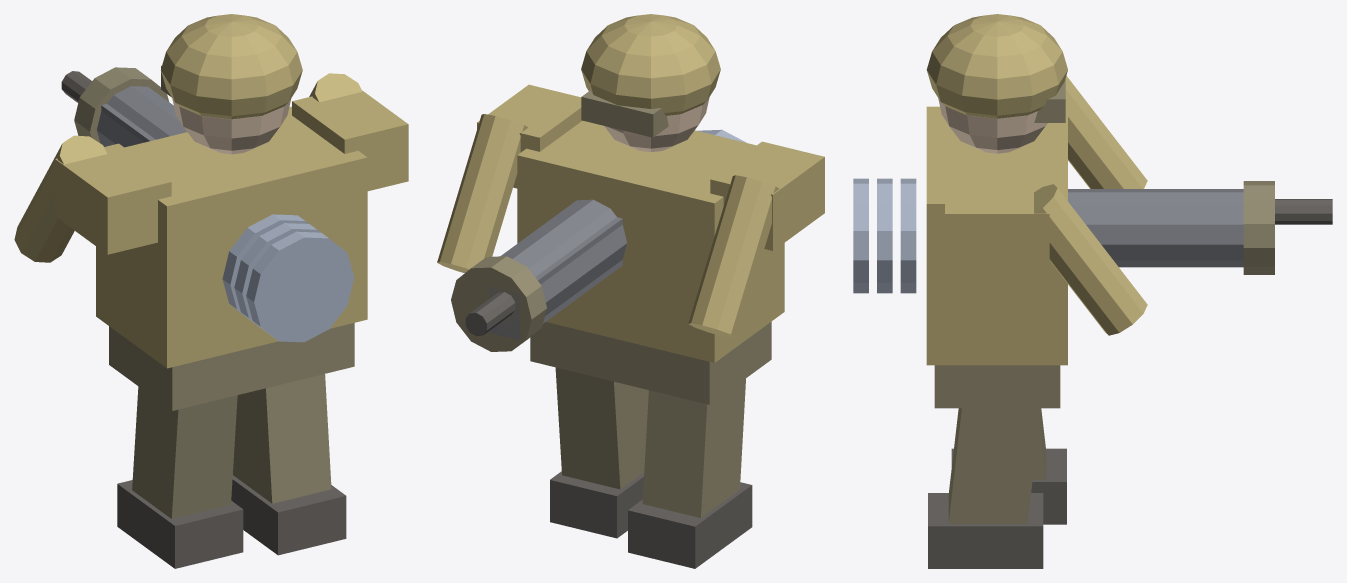
The model's file is dm_grenadier.glb.
3 renders of one model, left to right at view 1: azimuth 30°, elevation 25°; view 2: azimuth 150°, elevation 25°; view 3: azimuth 270°, elevation 25°, orthographic.
Visible parts, largest first — view 1: soldier; view 2: soldier; view 3: soldier.
Boxes of the visible parts, x1,y1,x2,y2 form: soldier: [14, 14, 408, 568]; soldier: [437, 14, 824, 568]; soldier: [853, 14, 1332, 568].
Bounding box in the file's own units: 0.66 × 1.07 × 0.915.
